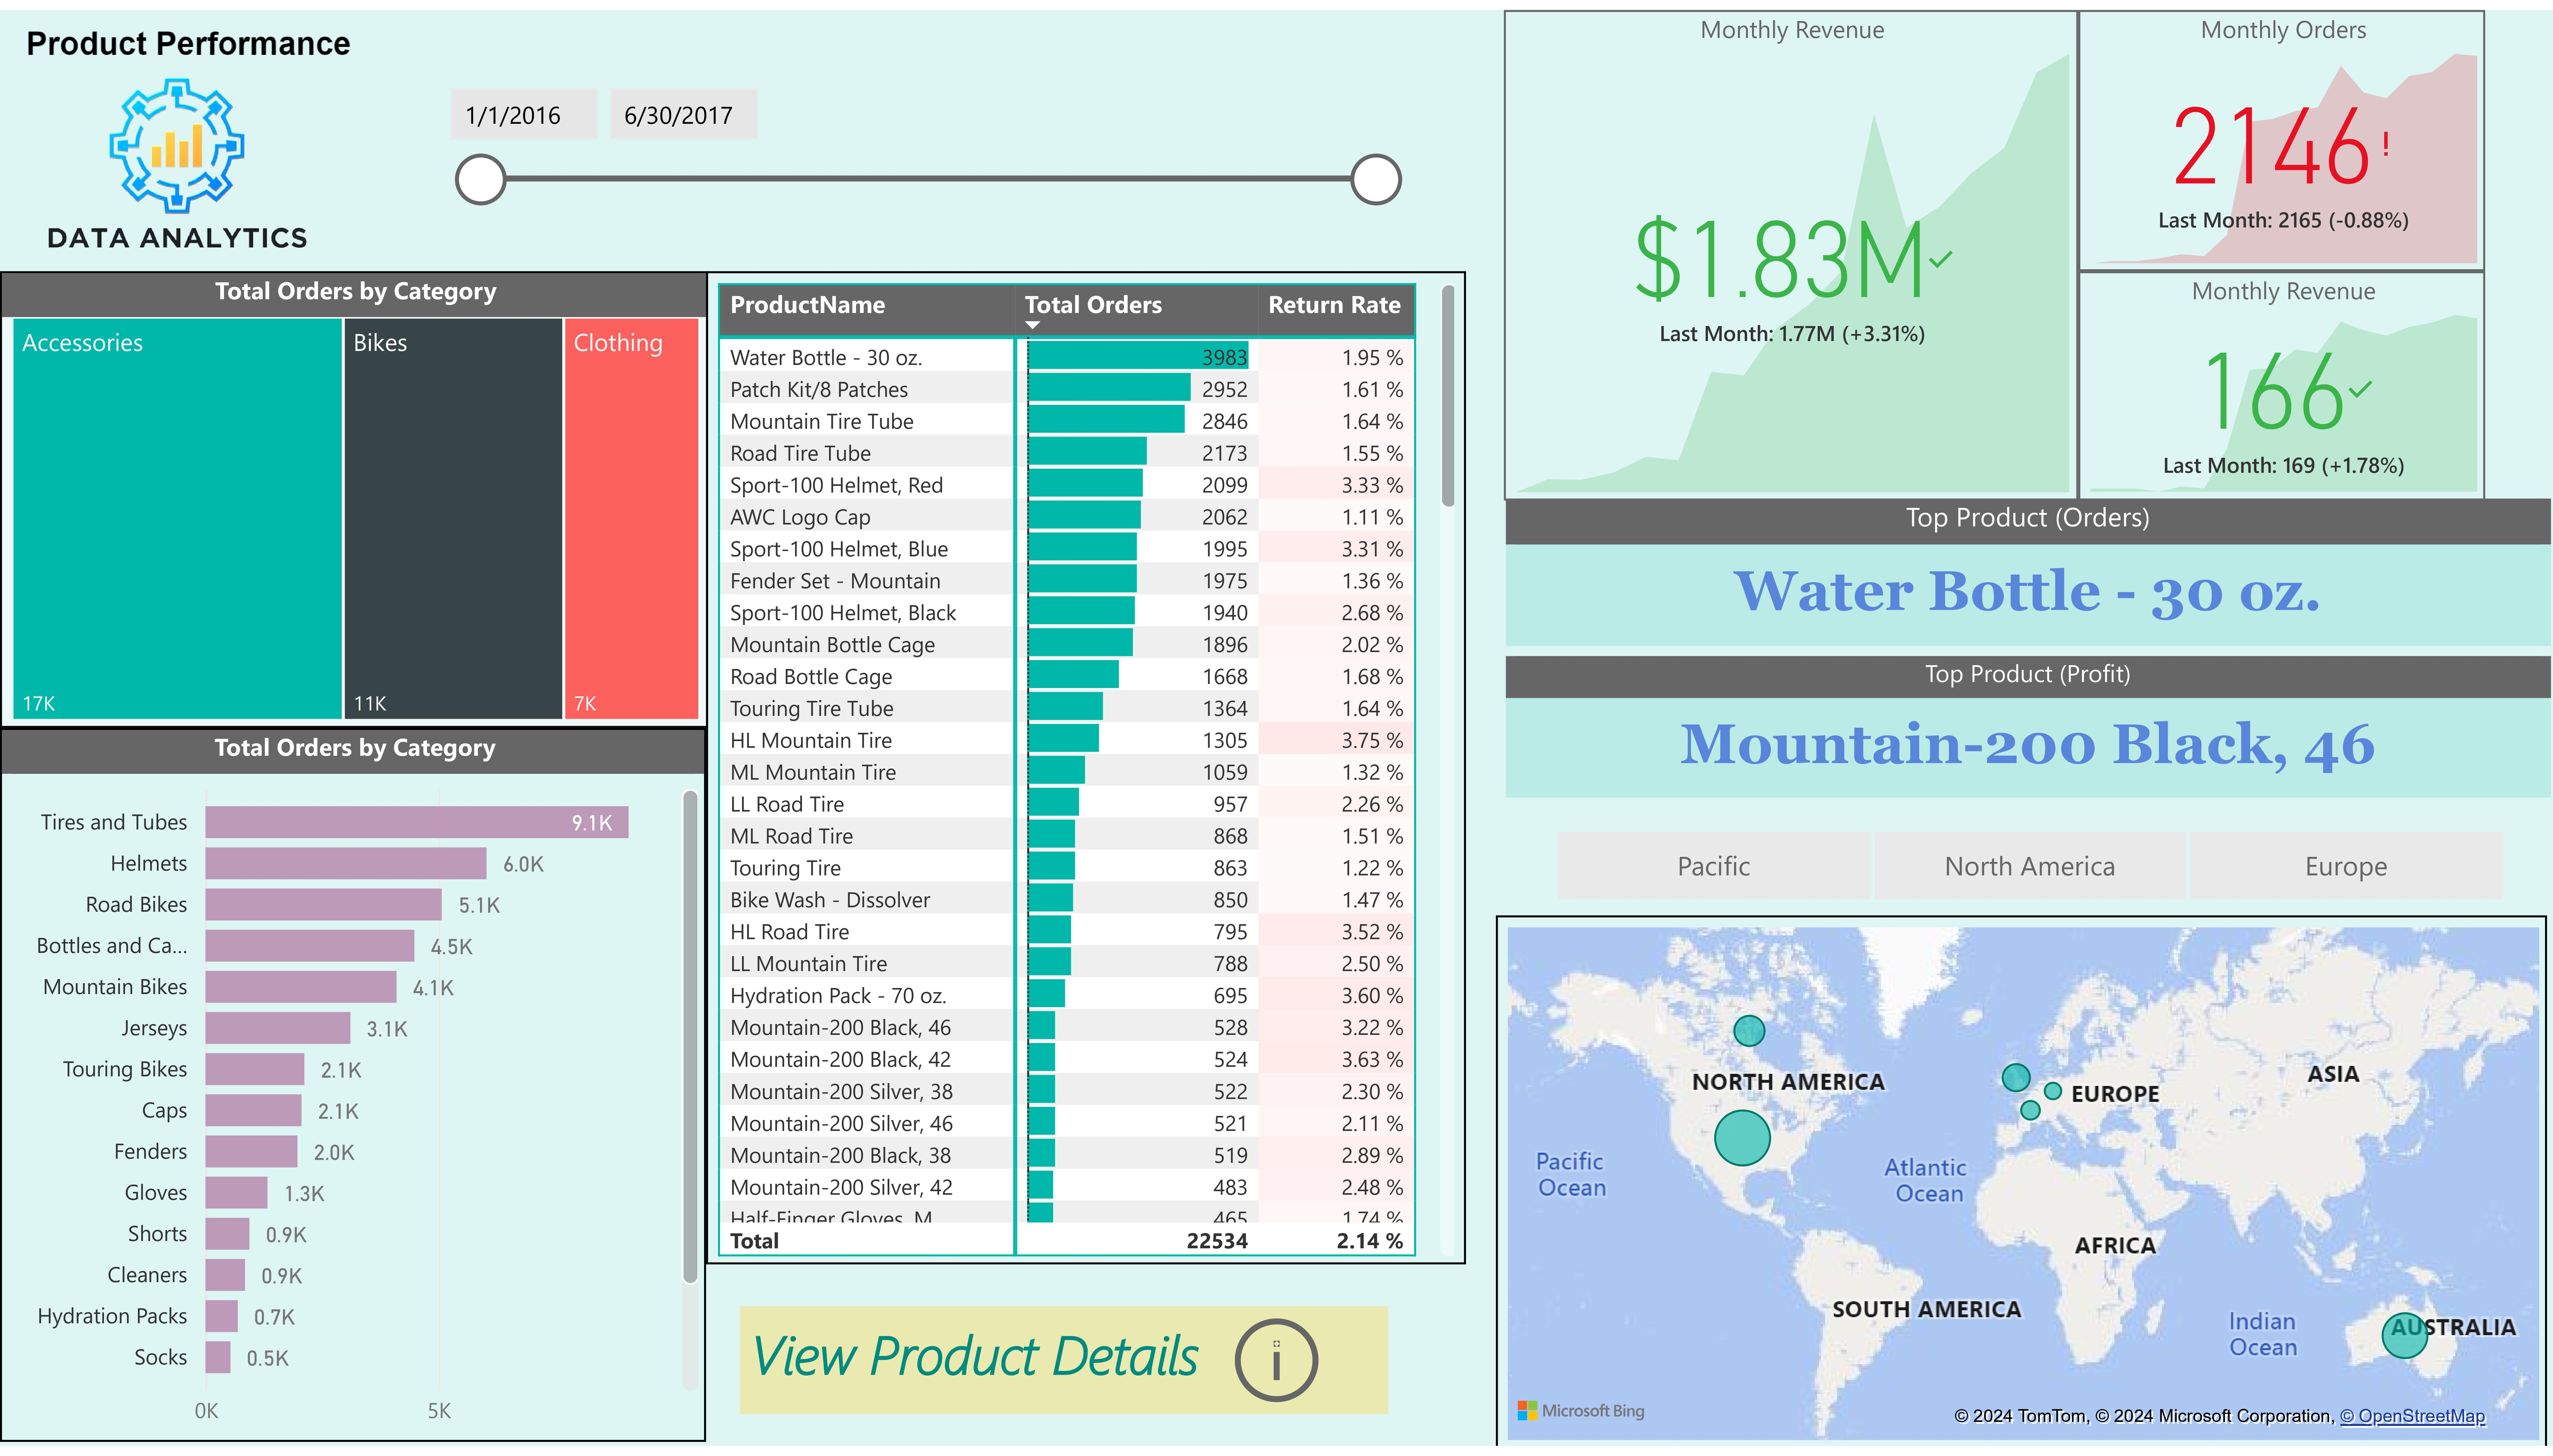

What the dashboard file says about the page in this screenshot:
{"tool":"powerbi","page":{"name":"Product Performance","canvas":[1280,720],"ordinal":1},"visuals":[{"type":"image","box":[0,0,176.6,154.5],"z":0},{"type":"treemap","title":"Total Orders by Category","fields":{"Group":["AW_Product_Category_Lookup.CategoryName","AW_Product_Subcategory_Lookup.SubcategoryName"],"Values":["AW_Sales.Total Orders"]},"box":[0,130.8,354.9,229.2],"z":1000},{"type":"clusteredBarChart","title":"Total Orders by Category","fields":{"Category":["AW_Product_Subcategory_Lookup.SubcategoryName"],"Y":["AW_Sales.Total Orders"]},"box":[0,360.4,354.2,358.3],"z":2000},{"type":"pivotTable","fields":{"Values":["AW_Sales.Total Orders","AW_Returns.Return Rate"],"Rows":["AW_Product_Category_Lookup.CategoryName","AW_Product_Subcategory_Lookup.SubcategoryName","AW_Product_Lookup.ProductName"]},"box":[354.2,131.2,381.2,497.9],"z":3000},{"type":"slicer","fields":{"Values":["AW_Calendar_Lookup.Date"]},"box":[212.9,29.4,498.5,74.4],"z":4000},{"type":"kpi","title":"Monthly Revenue","fields":{"Indicator":["AW_Sales.Total Revenue"],"TrendLine":["AW_Calendar_Lookup.Start of Month"],"Goal":["AW_Sales.Prev Month Revenue"]},"box":[754.2,0,287.5,245.8],"z":5000},{"type":"kpi","title":"Monthly Revenue","fields":{"TrendLine":["AW_Calendar_Lookup.Start of Month"],"Goal":["AW_Returns.Prev Month Returns"],"Indicator":["AW_Returns.Total Returns"]},"box":[1041.7,131.2,204.2,114.6],"z":6000},{"type":"kpi","title":"Monthly Orders","fields":{"TrendLine":["AW_Calendar_Lookup.Start of Month"],"Goal":["AW_Sales.Prev Month Orders"],"Indicator":["AW_Sales.Total Orders"]},"box":[1041.7,0,204.2,131.2],"z":7000},{"type":"card","title":"Top Product (Orders)","fields":{"Values":["Min(AW_Product_Lookup.ProductName)"]},"box":[754.8,245.2,523.8,73.8],"z":8000},{"type":"card","title":"Top Product (Profit)","fields":{"Values":["Min(AW_Product_Lookup.ProductName)"]},"box":[754.8,323.8,523.8,71.4],"z":9000},{"type":"map","fields":{"Category":["AW_Territories_Lookup.Country"],"Size":["AW_Sales.Total Orders"]},"box":[750,454.2,527.1,266.7],"z":10000},{"type":"slicer","fields":{"Values":["AW_Territories_Lookup.Continent"]},"box":[754.8,404.8,523.8,47.6],"z":11000},{"type":"textbox","box":[370.8,650,325,54.2],"z":12000},{"type":"actionButton","box":[612.5,650,56.2,54.2],"z":13000}]}

Visuals, with their boxes in screenshot pixels (x1, y1, x2, y2), scaled from the page's 1280x720 canvas onto the 2553x1456 screenshot:
image: locate(0, 0, 352, 312)
"Total Orders by Category" treemap: locate(0, 264, 708, 728)
"Total Orders by Category" clusteredBarChart: locate(0, 729, 707, 1453)
pivotTable - AW_Sales.Total Orders x AW_Returns.Return Rate: locate(707, 265, 1467, 1272)
slicer - AW_Calendar_Lookup.Date: locate(425, 59, 1419, 210)
"Monthly Revenue" kpi: locate(1504, 0, 2078, 497)
"Monthly Revenue" kpi: locate(2078, 265, 2485, 497)
"Monthly Orders" kpi: locate(2078, 0, 2485, 265)
"Top Product (Orders)" card: locate(1506, 496, 2550, 645)
"Top Product (Profit)" card: locate(1506, 655, 2550, 799)
map - AW_Territories_Lookup.Country x AW_Sales.Total Orders: locate(1496, 918, 2547, 1456)
slicer - AW_Territories_Lookup.Continent: locate(1506, 819, 2550, 915)
textbox: locate(740, 1314, 1388, 1424)
actionButton: locate(1222, 1314, 1334, 1424)
